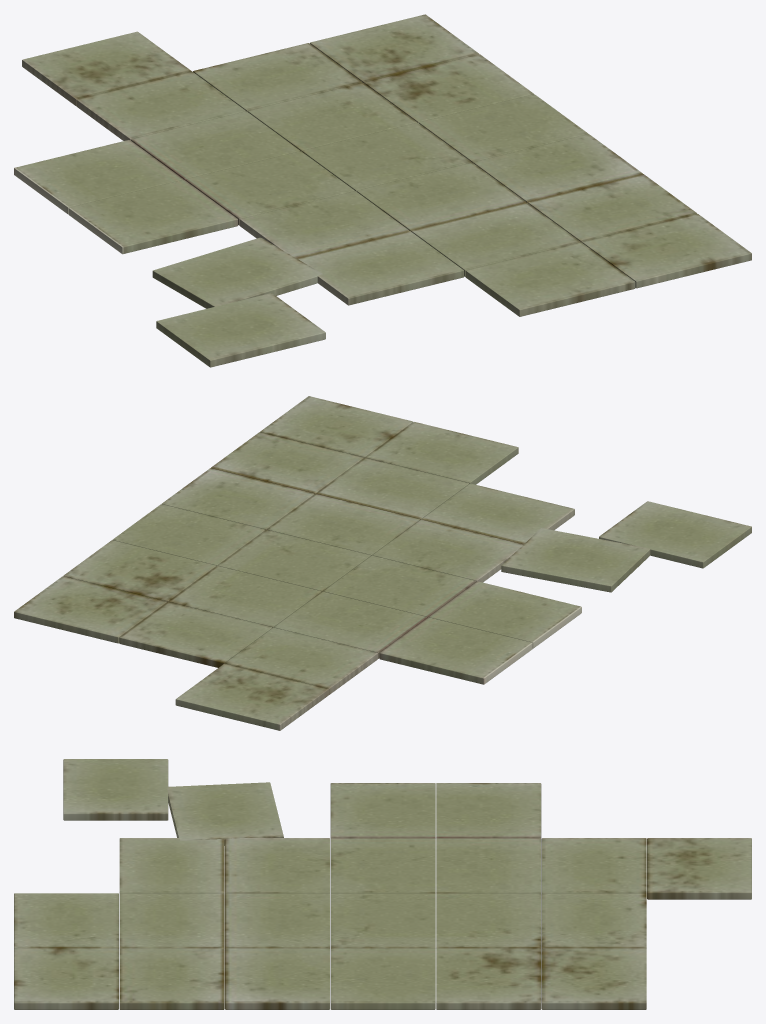
The model's file is Bathroom_Floor scathered.fbx.
3 renders of one model, top to bottom at view 1: azimuth 30°, elevation 25°; view 2: azimuth 150°, elevation 25°; view 3: azimuth 270°, elevation 25°, orthographic. The views are drawn at different scales.
Parts seen in each view (by area): view 1: defaultMaterial.015, defaultMaterial.002, defaultMaterial.055, defaultMaterial.009, defaultMaterial.003, defaultMaterial.054, defaultMaterial.006, defaultMaterial.007, defaultMaterial.017, defaultMaterial.016, defaultMaterial.013, defaultMaterial.014 (+10 smaller); view 2: defaultMaterial.006, defaultMaterial.007, defaultMaterial.054, defaultMaterial.010, defaultMaterial.011, defaultMaterial.055, defaultMaterial.002, defaultMaterial.017, defaultMaterial.015, defaultMaterial.016, defaultMaterial.009, defaultMaterial.018 (+10 smaller); view 3: defaultMaterial, defaultMaterial.004, defaultMaterial.005, defaultMaterial.010, defaultMaterial.055, defaultMaterial.001, defaultMaterial.003, defaultMaterial.007, defaultMaterial.013, defaultMaterial.014, defaultMaterial.008, defaultMaterial.011 (+10 smaller).
Boxes of the visible parts, left/top/right/bottom form: defaultMaterial.015: left=465, top=242, right=635, bottom=316; defaultMaterial.002: left=68, top=179, right=237, bottom=254; defaultMaterial.055: left=156, top=293, right=325, bottom=367; defaultMaterial.009: left=297, top=231, right=463, bottom=305; defaultMaterial.003: left=582, top=214, right=751, bottom=288; defaultMaterial.054: left=152, top=237, right=322, bottom=308; defaultMaterial.006: left=14, top=140, right=183, bottom=214; defaultMaterial.007: left=22, top=31, right=191, bottom=105; defaultMaterial.017: left=76, top=71, right=245, bottom=140; defaultMaterial.016: left=240, top=191, right=409, bottom=258; defaultMaterial.013: left=185, top=151, right=354, bottom=225; defaultMaterial.014: left=411, top=202, right=580, bottom=276; defaultMaterial.006: left=379, top=617, right=532, bottom=684; defaultMaterial.007: left=175, top=663, right=328, bottom=730; defaultMaterial.054: left=501, top=528, right=650, bottom=592; defaultMaterial.010: left=14, top=576, right=166, bottom=643; defaultMaterial.011: left=119, top=602, right=272, bottom=667; defaultMaterial.055: left=599, top=501, right=751, bottom=568; defaultMaterial.002: left=429, top=581, right=581, bottom=648; defaultMaterial.017: left=225, top=627, right=377, bottom=694; defaultMaterial.015: left=365, top=422, right=518, bottom=484; defaultMaterial.016: left=372, top=519, right=523, bottom=582; defaultMaterial.009: left=422, top=483, right=574, bottom=544; defaultMaterial.018: left=274, top=591, right=427, bottom=658; defaultMaterial: left=119, top=948, right=224, bottom=1009; defaultMaterial.004: left=330, top=948, right=435, bottom=1009; defaultMaterial.005: left=436, top=948, right=541, bottom=1009; defaultMaterial.010: left=541, top=948, right=646, bottom=1009; defaultMaterial.055: left=63, top=759, right=168, bottom=820; defaultMaterial.001: left=225, top=948, right=329, bottom=1009; defaultMaterial.003: left=14, top=948, right=118, bottom=1009; defaultMaterial.007: left=647, top=838, right=751, bottom=899; defaultMaterial.013: left=330, top=838, right=435, bottom=893; defaultMaterial.014: left=119, top=893, right=224, bottom=948; defaultMaterial.008: left=330, top=893, right=435, bottom=948; defaultMaterial.011: left=541, top=893, right=646, bottom=948.
Size of the model in its own units: 157 by 2.17 by 200.
1 material, 1 textured.
